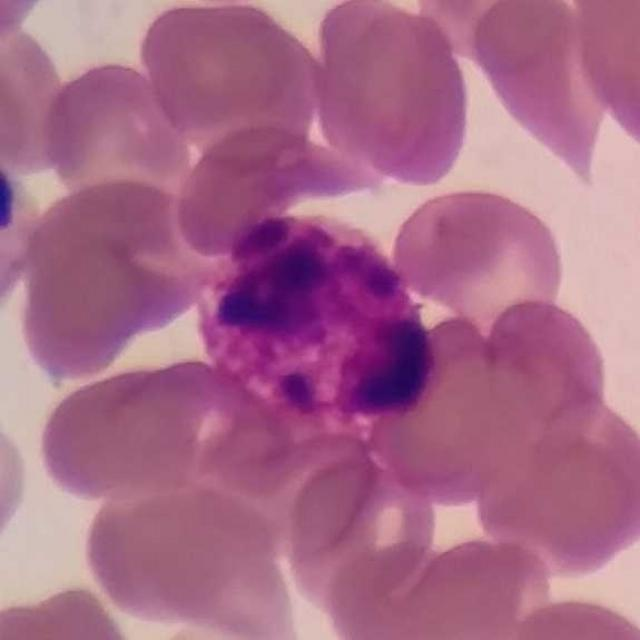Neutrophil: (188, 202, 448, 446)
Platelets: (0, 152, 26, 246)
RBC: (12, 170, 218, 374), (355, 310, 547, 504), (80, 476, 300, 634), (308, 0, 476, 189), (474, 398, 640, 576), (277, 445, 441, 621), (30, 354, 218, 505), (323, 527, 555, 640), (386, 180, 572, 320), (134, 0, 318, 138), (169, 117, 335, 264), (34, 56, 192, 200), (473, 292, 614, 434), (429, 0, 584, 83), (1, 16, 76, 172), (566, 0, 640, 153), (0, 579, 141, 640), (492, 589, 640, 640), (0, 383, 35, 569), (0, 36, 37, 200), (0, 0, 56, 46)
